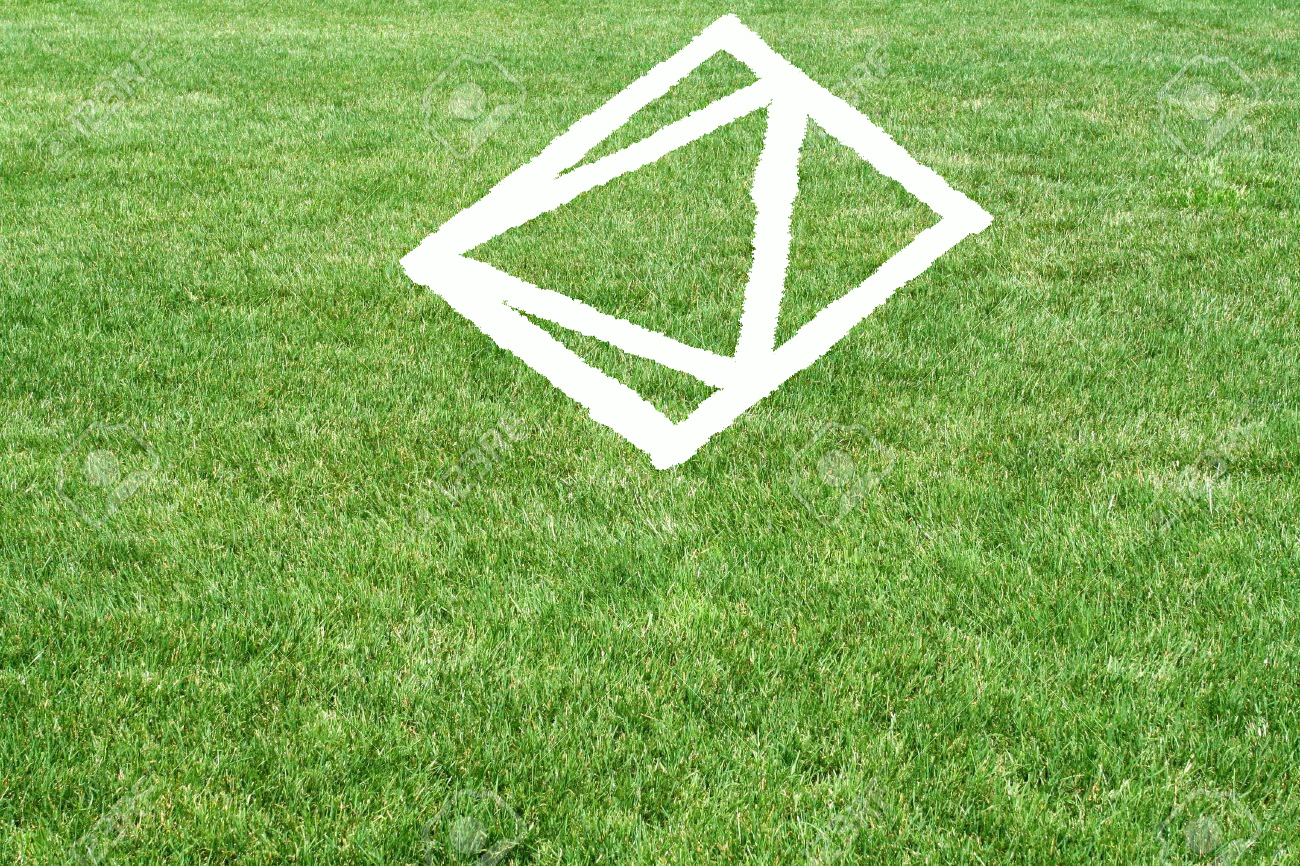marker: (389, 10, 1003, 482)
